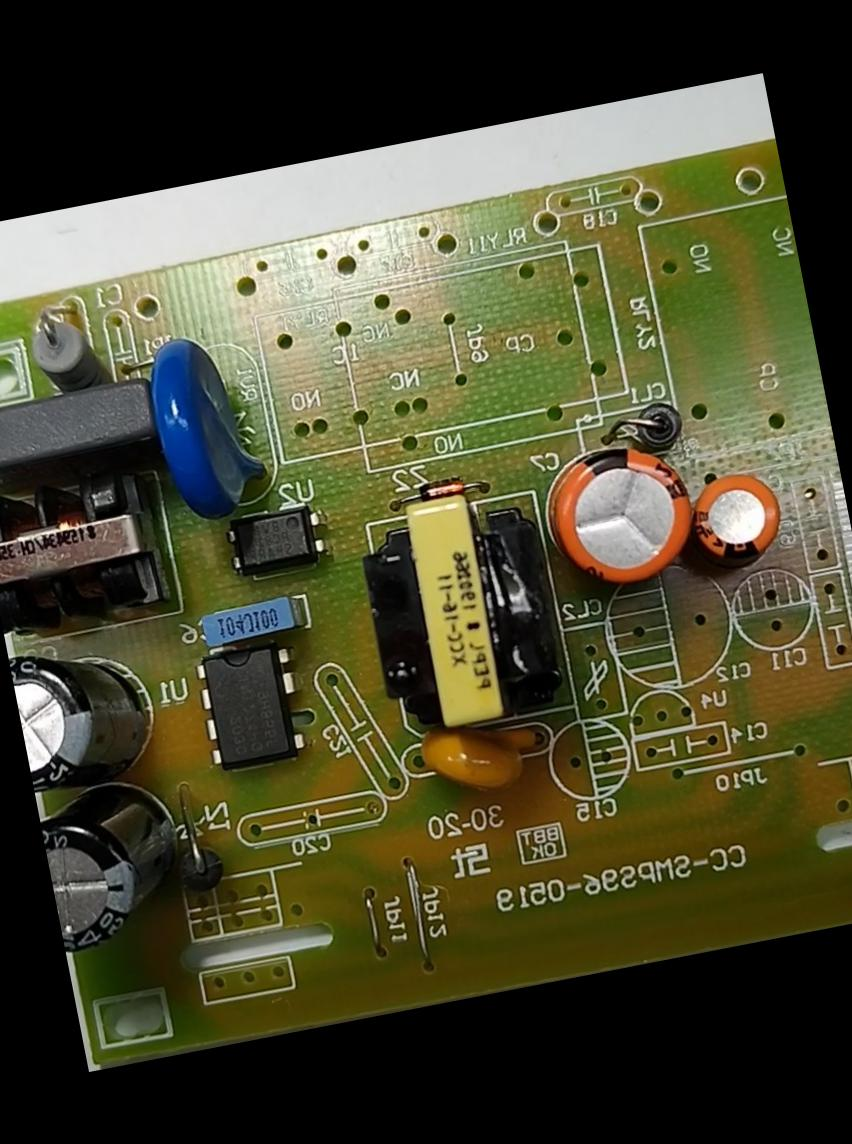Cap1: (530, 426, 712, 604)
Cap2: (670, 455, 804, 582)
Cap3: (8, 624, 174, 805)
Cap4: (34, 765, 210, 963)
MOSFET: (178, 626, 322, 785)
Mov: (120, 311, 288, 543)
Resistor: (14, 297, 124, 415)
Transformer: (338, 465, 588, 758), (0, 441, 203, 658)
